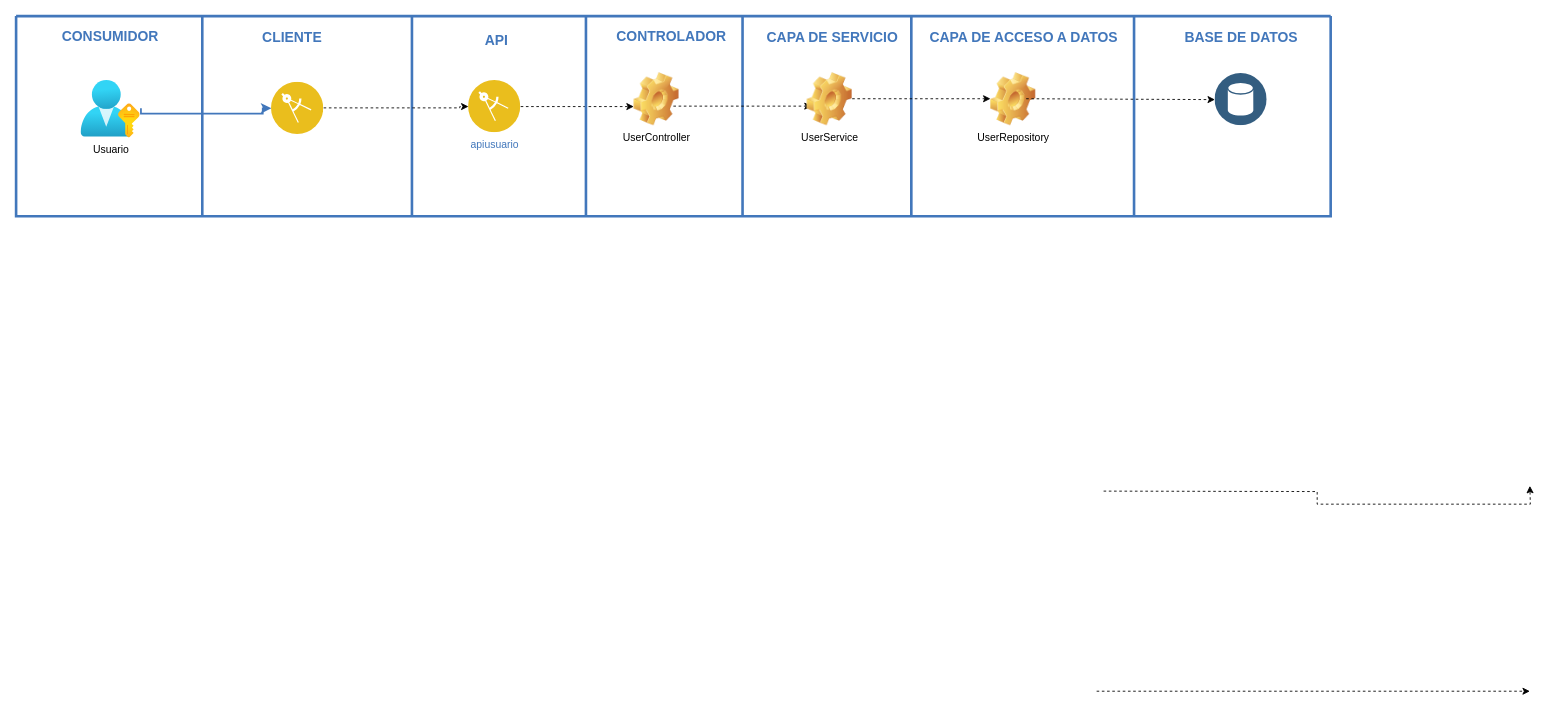
Some shapes in this 1553 by 713 pixel diagram are drawn without their labels. Each missing label, with the box of its shape:
api-cliente-para-api-usuario: (271, 82, 323, 134)
TESTDB: (1215, 73, 1267, 125)
